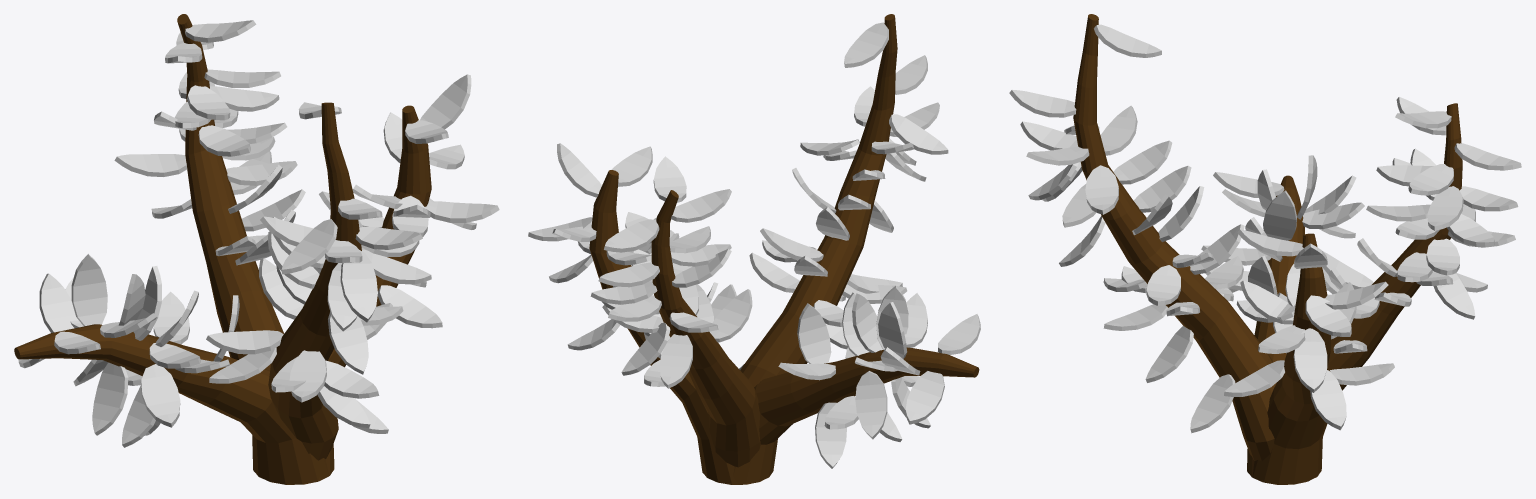
The model's file is Arbusto1Hoja1Otoño.fbx.
3 renders of one model, left to right at view 1: azimuth 30°, elevation 25°; view 2: azimuth 150°, elevation 25°; view 3: azimuth 270°, elevation 25°, orthographic. The views are drawn at different scales.
Parts seen in each view (by area): view 1: RamasArbusto1Hoja1Otoño; view 2: RamasArbusto1Hoja1Otoño; view 3: RamasArbusto1Hoja1Otoño.
Part boxes in pixels (bbox=[...]): RamasArbusto1Hoja1Otoño: bbox=[14, 14, 499, 484]; RamasArbusto1Hoja1Otoño: bbox=[528, 14, 980, 484]; RamasArbusto1Hoja1Otoño: bbox=[1009, 14, 1521, 484].
Bounding box in the file's own units: 135 × 124 × 136.
